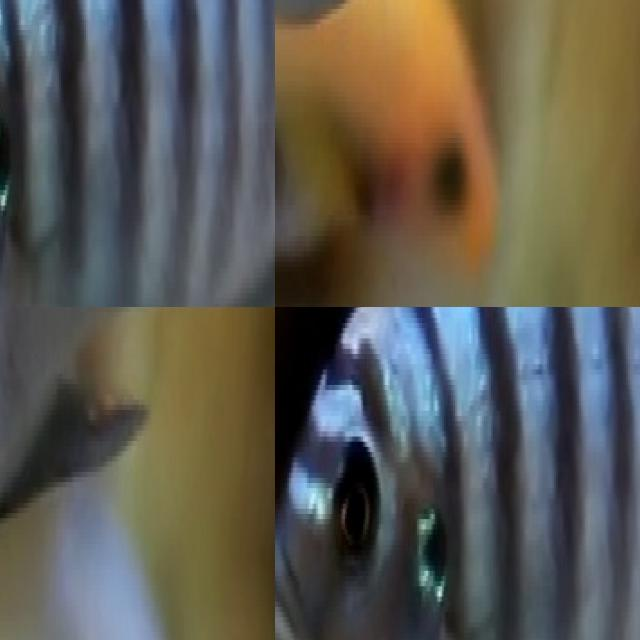fish: (275, 307, 640, 640), (0, 0, 275, 307)
